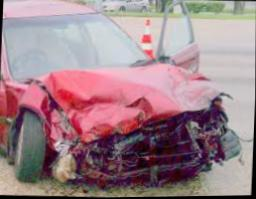Bonnet: (34, 63, 235, 145)
Bumper: (57, 115, 239, 188)
Fender: (0, 81, 78, 158)
